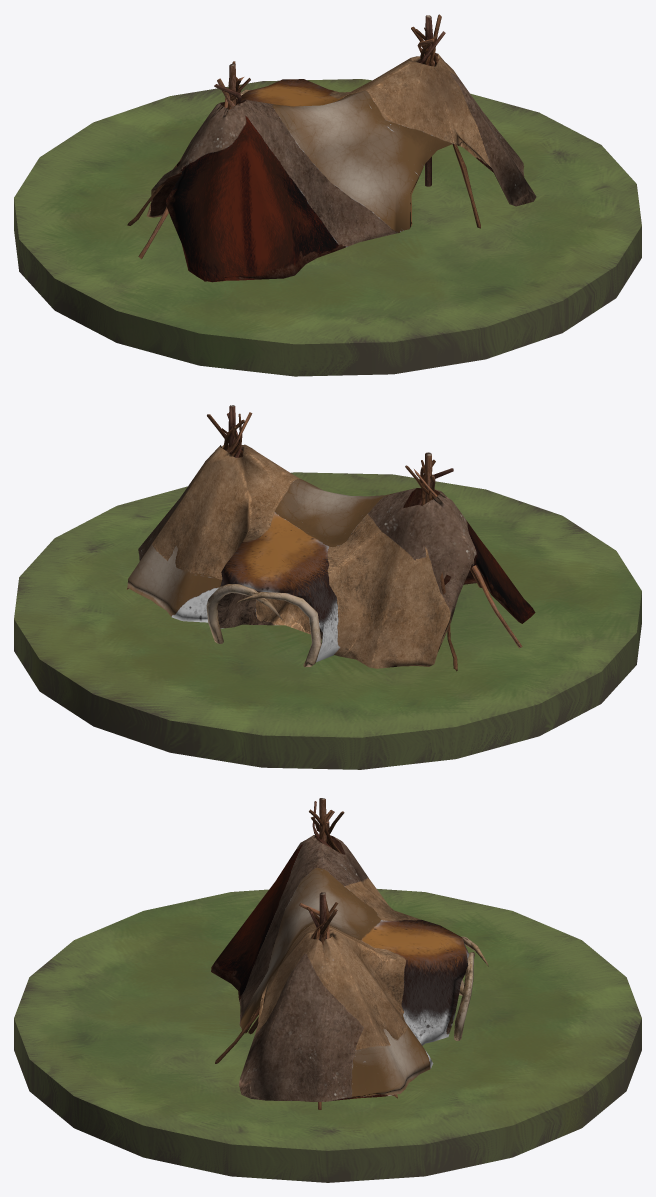
File: paleolithic_animal_hide_tent.glb
3 renders of one model, top to bottom at view 1: azimuth 30°, elevation 25°; view 2: azimuth 150°, elevation 25°; view 3: azimuth 270°, elevation 25°, orthographic.
Visible parts, largest first — view 1: pCylinder1, Tent_L2, TipiBundle_Left_L, TipiBundle_Right_L; view 2: pCylinder1, Tent_L2, TipiBundle_Right_L, TuskRight_L, TuskLeft_L, TipiBundle_Left_L; view 3: pCylinder1, Tent_L2, TipiBundle_Left_L, TipiBundle_Right_L, TuskLeft_L.
Boxes of the visible parts, <box> form: pCylinder1: <box>14,79,641,376</box>; Tent_L2: <box>146,53,536,282</box>; TipiBundle_Left_L: <box>398,14,523,232</box>; TipiBundle_Right_L: <box>127,61,250,281</box>; pCylinder1: <box>14,472,641,769</box>; Tent_L2: <box>127,444,535,668</box>; TipiBundle_Right_L: <box>405,452,522,671</box>; TuskRight_L: <box>236,592,321,667</box>; TuskLeft_L: <box>206,584,282,643</box>; TipiBundle_Left_L: <box>126,405,252,589</box>; pCylinder1: <box>14,889,641,1182</box>; Tent_L2: <box>211,835,468,1101</box>; TipiBundle_Left_L: <box>215,892,397,1109</box>; TipiBundle_Right_L: <box>309,798,344,853</box>; TuskLeft_L: <box>454,952,474,1040</box>.
Size of the model in its own units: 6.14 by 2.2 by 6.14.
2 materials, 2 textured.
